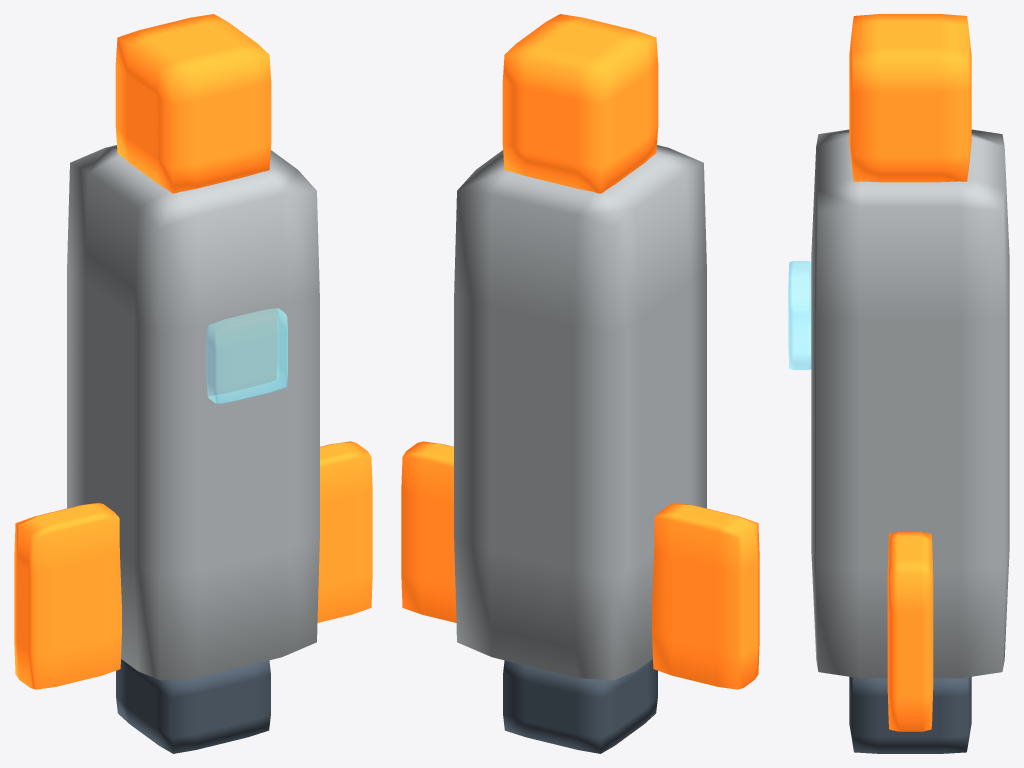
Rendered from rocket-pioneer.glb.
The picture shows the model from 3 angles, left to right: view 1: azimuth 30°, elevation 25°; view 2: azimuth 150°, elevation 25°; view 3: azimuth 270°, elevation 25°; orthographic projection.
Parts seen in each view (by area): view 1: Body, Nose, FinL, Engine, FinR, Window; view 2: Body, Nose, FinL, Engine, FinR; view 3: Body, Nose, FinR, Engine, Window.
Part boxes in pixels (left/top/right/bottom): Body: left=67, top=145, right=319, bottom=680; Nose: left=115, top=14, right=271, bottom=193; FinL: left=14, top=502, right=121, bottom=689; Engine: left=116, top=659, right=270, bottom=753; FinR: left=317, top=441, right=372, bottom=622; Window: left=207, top=308, right=287, bottom=403; Body: left=454, top=145, right=706, bottom=680; Nose: left=502, top=14, right=658, bottom=193; FinL: left=652, top=502, right=759, bottom=689; Engine: left=503, top=659, right=657, bottom=753; FinR: left=401, top=441, right=456, bottom=622; Body: left=811, top=129, right=1009, bottom=678; Nose: left=849, top=14, right=971, bottom=182; FinR: left=887, top=531, right=933, bottom=731; Engine: left=849, top=676, right=971, bottom=753; Window: left=788, top=261, right=811, bottom=369.
Bounding box in the file's own units: 1.58 × 3.02 × 0.87.
